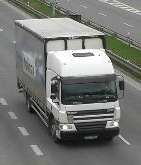truck: (15, 17, 123, 144)
